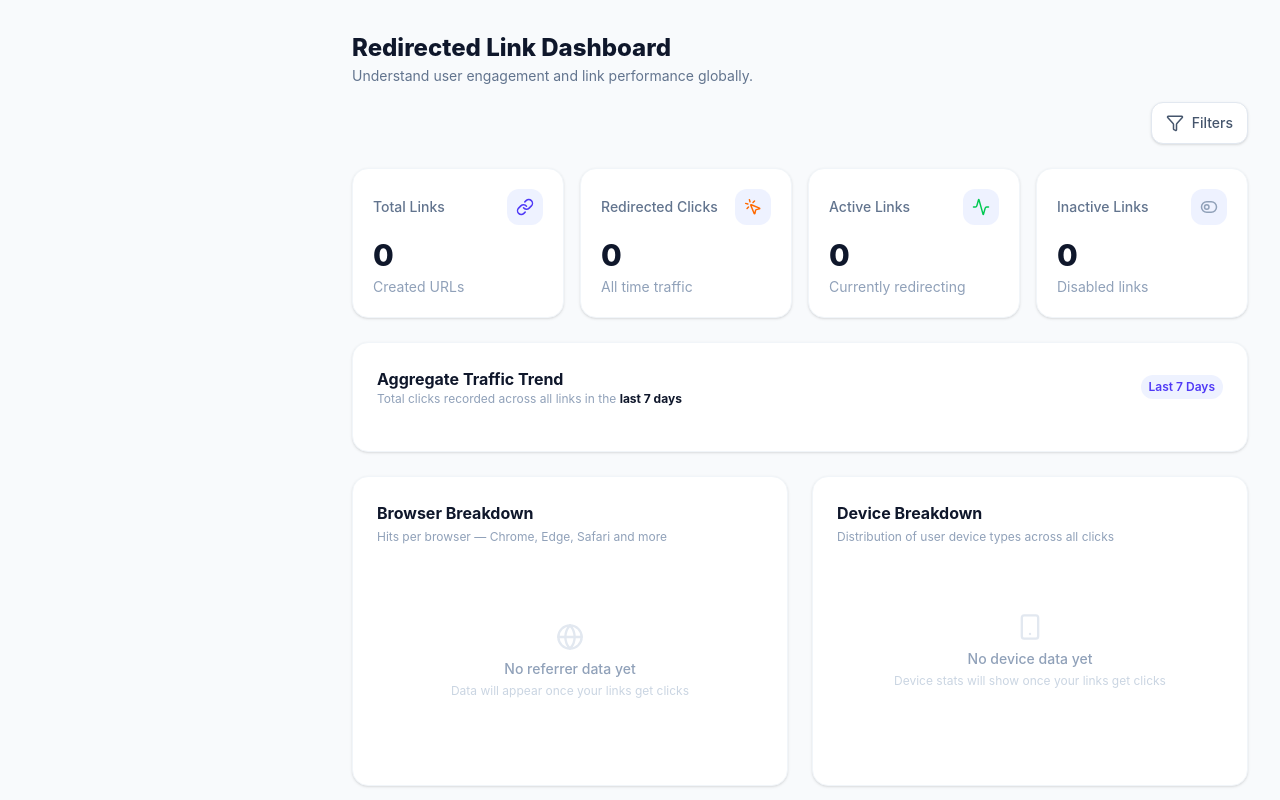
AnalyticsDashboard - filters › Clear All also closes the panel
Click the button "Filters".
click(1199, 123)  # box left=1151, top=102, right=1248, bottom=144
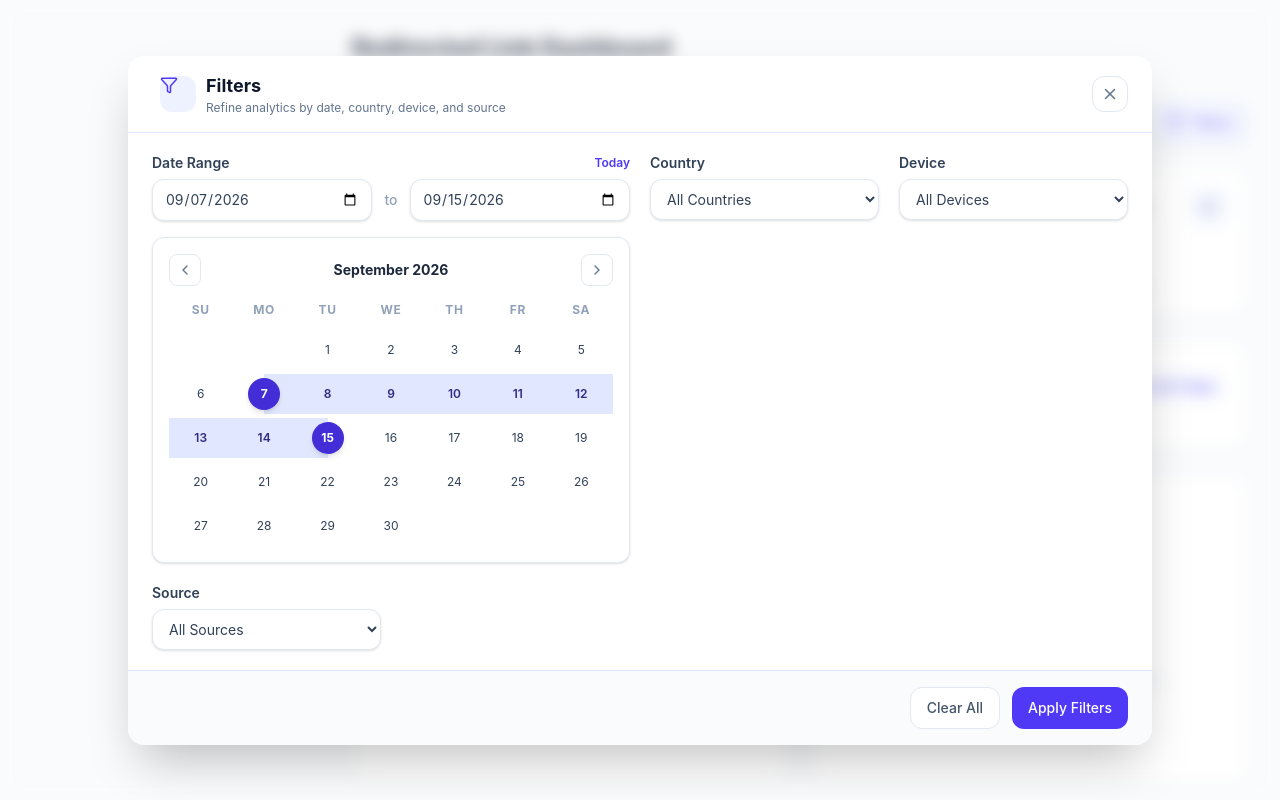
Result: the dialog is shown
Click the button "Clear All".
click(955, 708)  # box left=910, top=686, right=1000, bottom=728
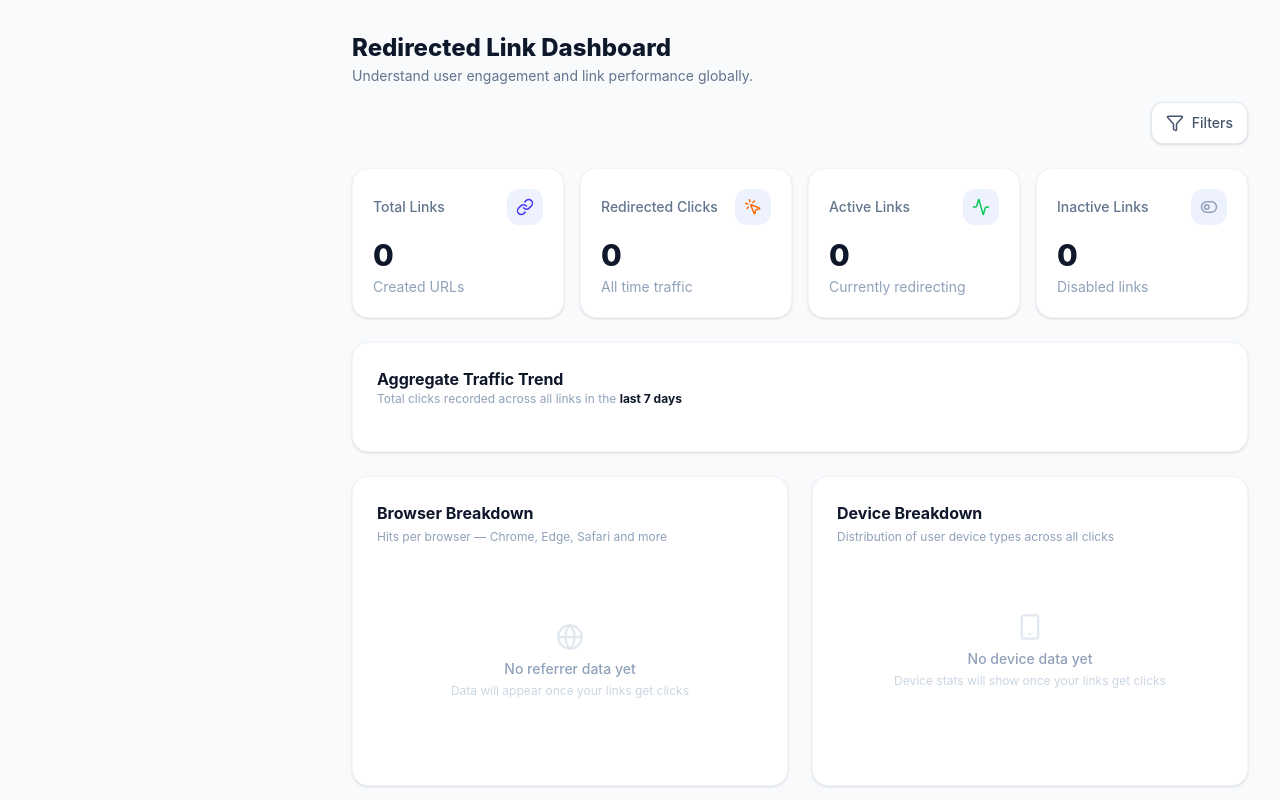
Result: the dialog is gone
